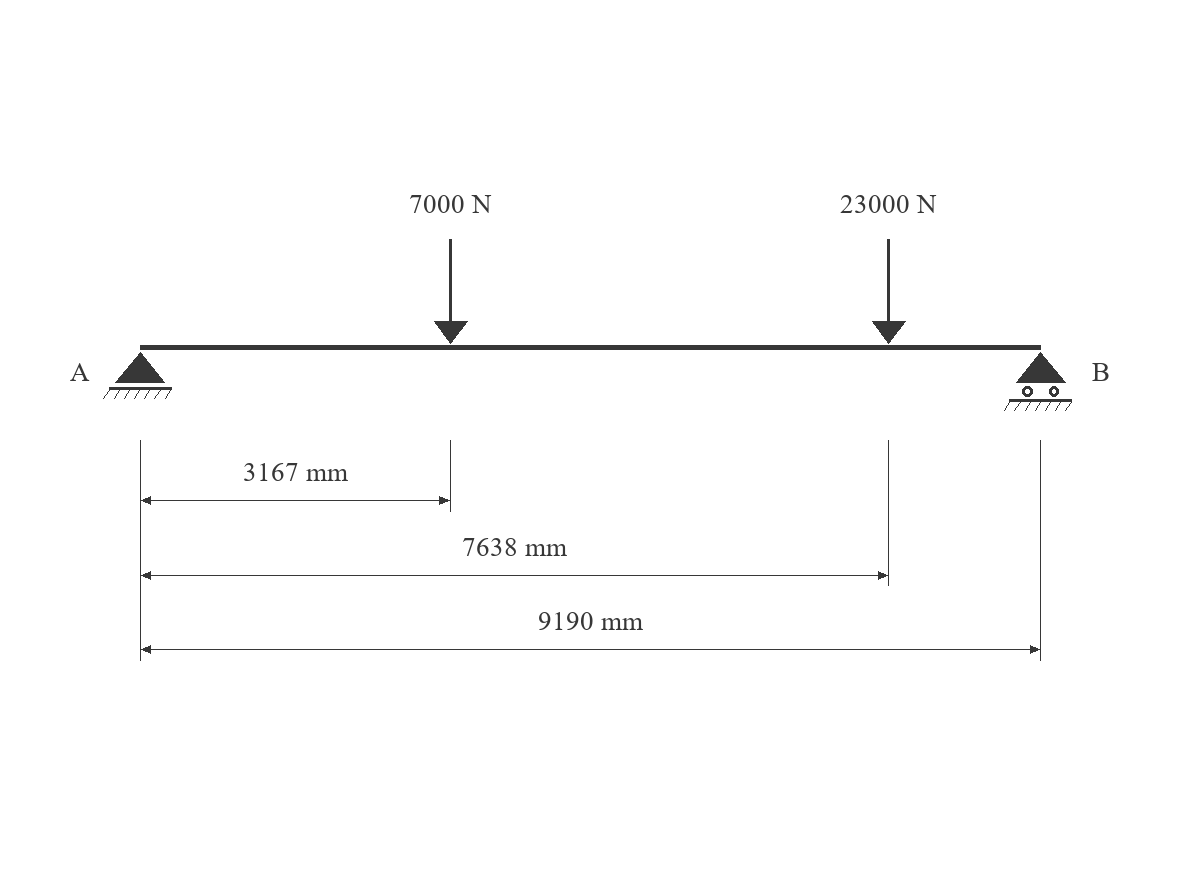pin_support: (103, 352, 172, 399)
point_load: (434, 239, 468, 344), (872, 239, 906, 344)
roller_support: (1004, 352, 1072, 411)
